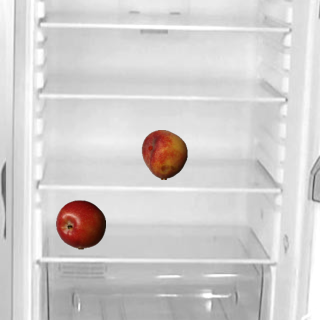Apple Braeburn: (55, 199, 105, 249)
Peach: (139, 129, 189, 179)
